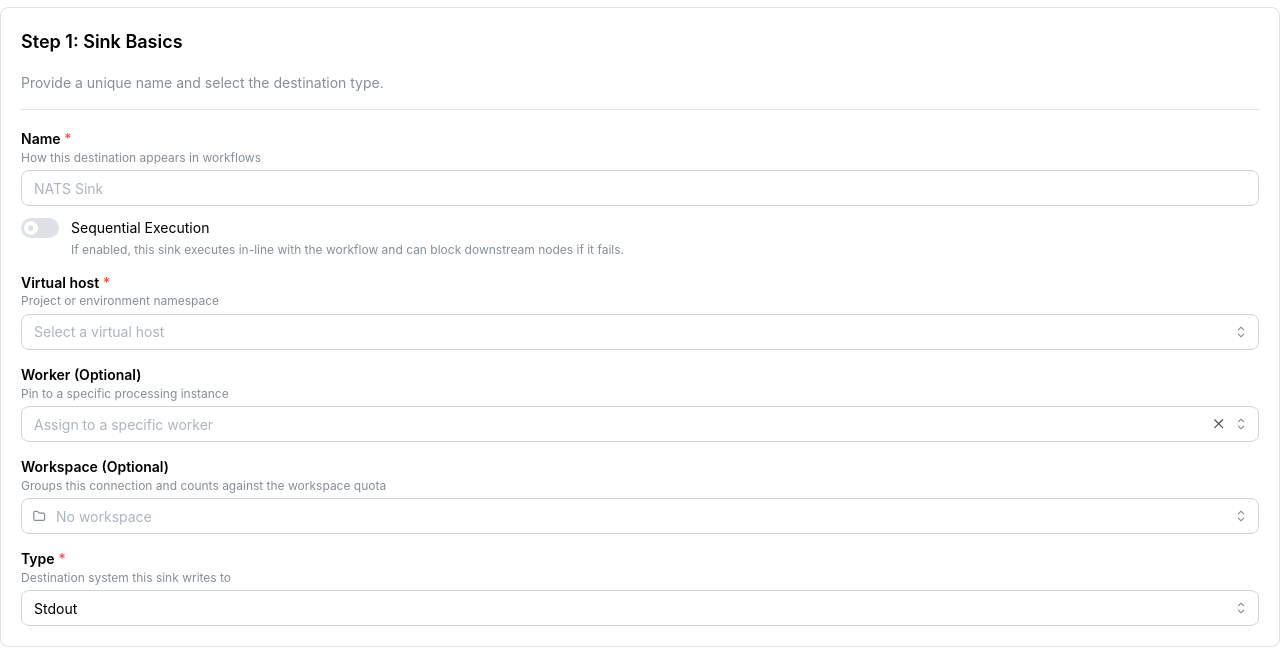
a new fcm sink › starts that way when FCM is picked as the type, too
Type "push" into the field labelled "Name *". click: {"x": 640, "y": 188}
box: [21,170,1259,206]
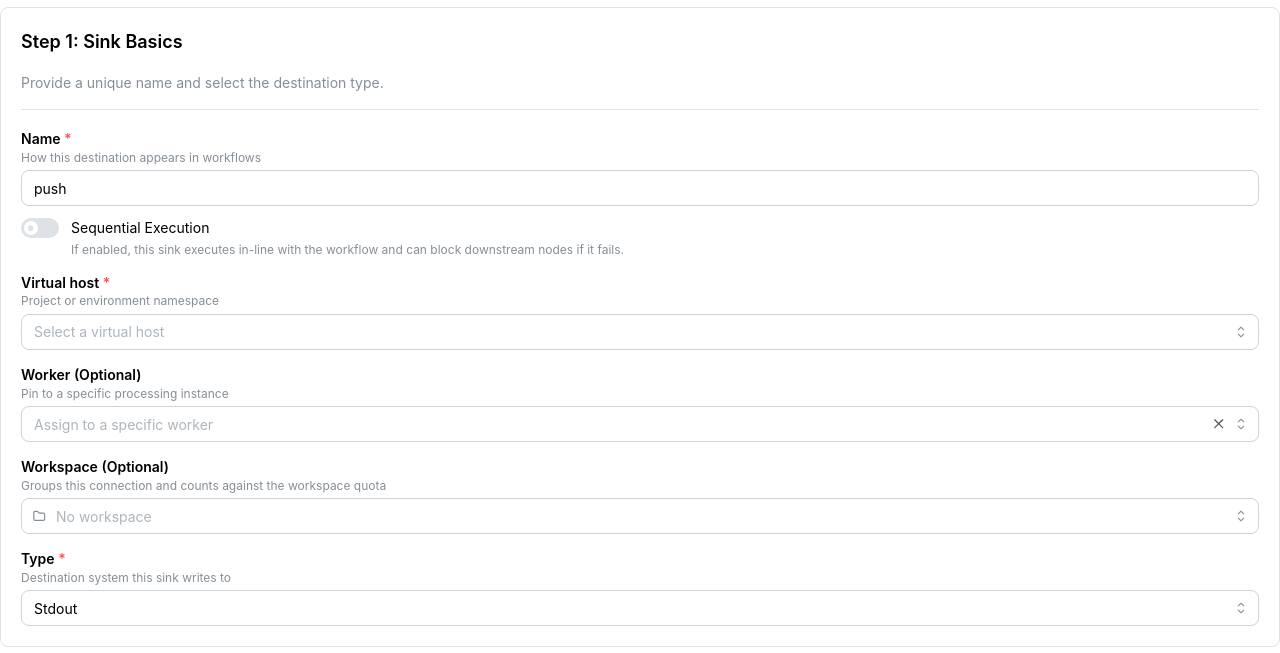
Click the dropdown labelled "Type *". click: {"x": 640, "y": 608}
box: [21,590,1259,626]
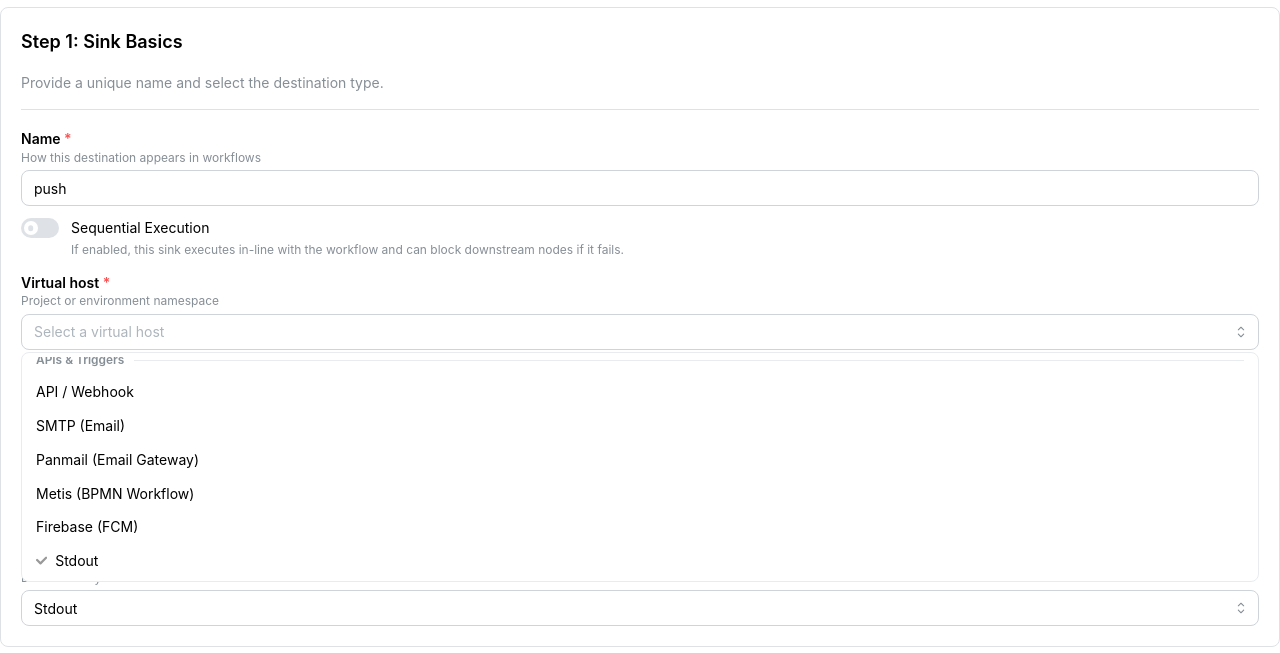
Click the option "Firebase (FCM)". click: {"x": 87, "y": 527}
box: [36,518,138,535]
(page scrolled)
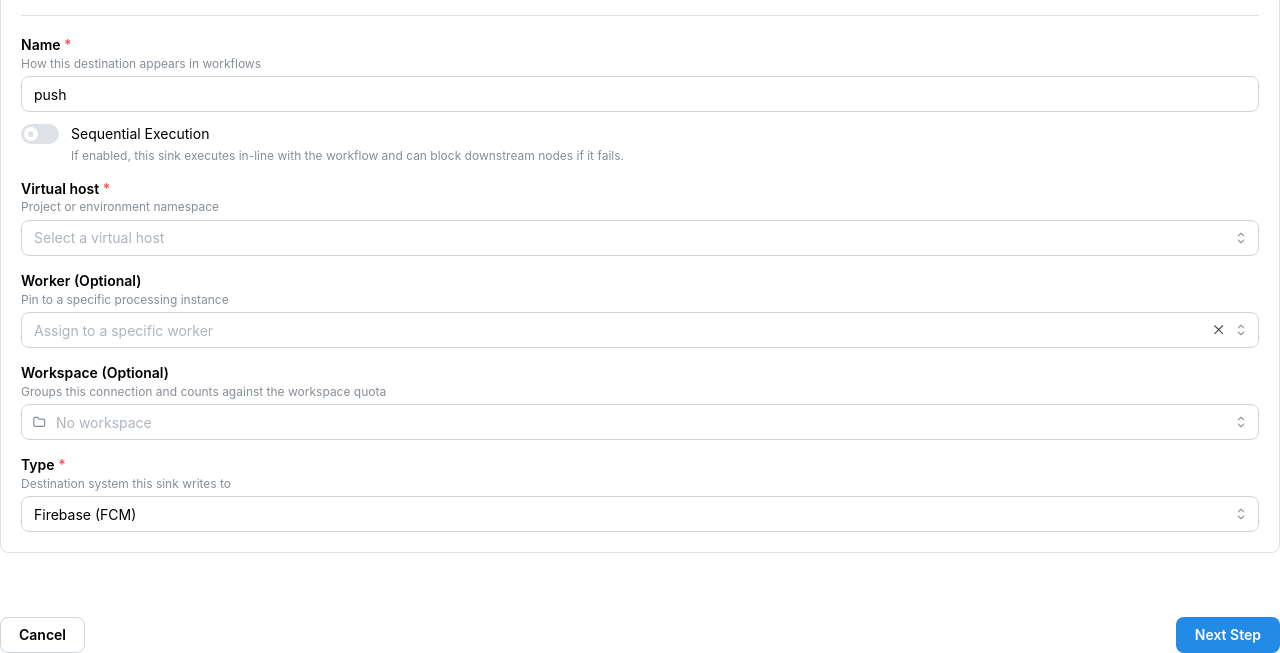
Click the button "Next Step". click: {"x": 1228, "y": 635}
box: [1176,617,1279,652]
(page scrolled)
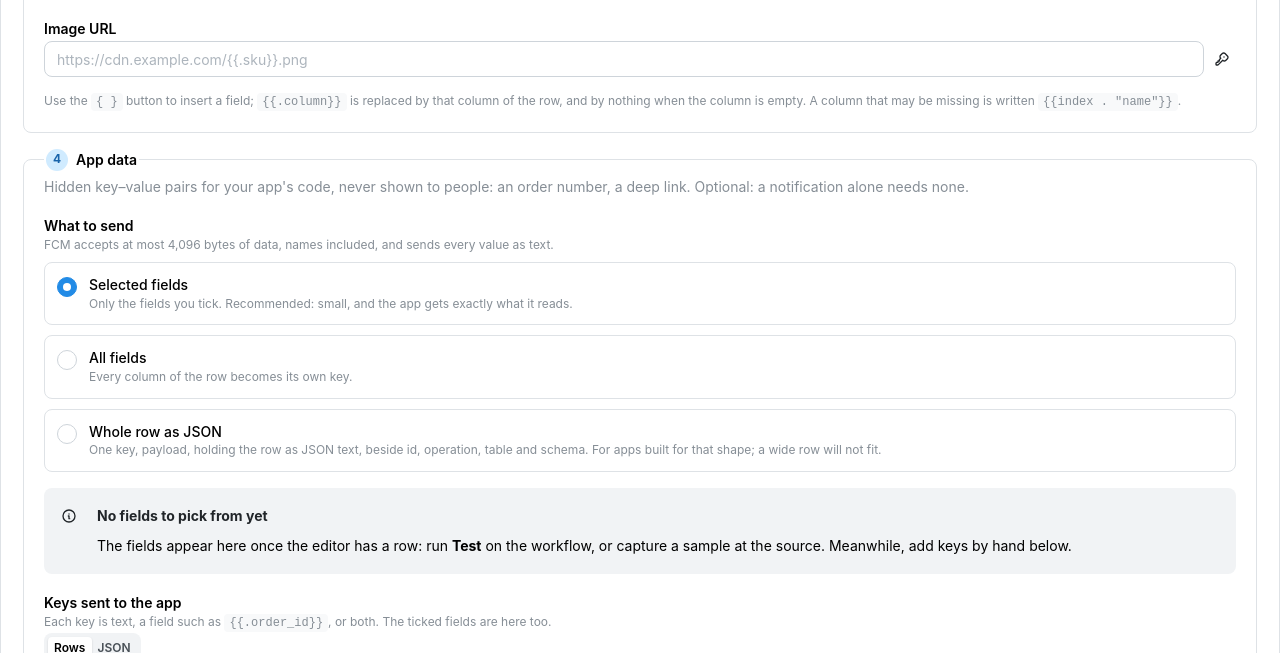
Check: the radio button labelled "Selected fields" is checked, box [44,262,1236,325]
